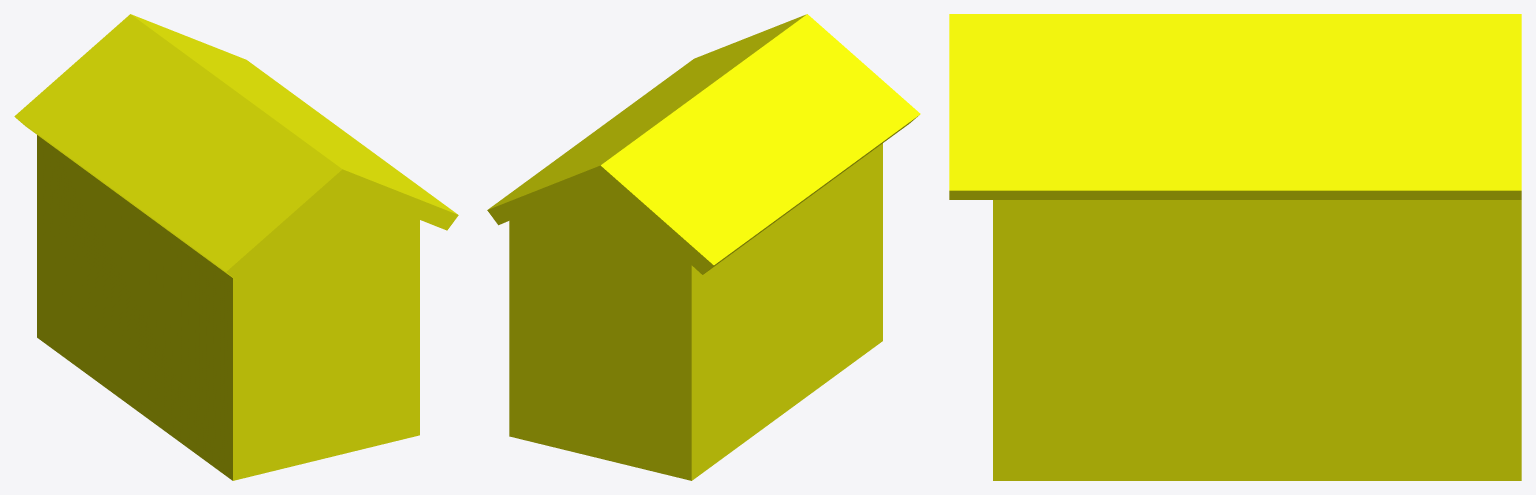
File: Roof_Window.FBX
3 views of the same model, side by side, from view 1: azimuth 30°, elevation 25°; view 2: azimuth 150°, elevation 25°; view 3: azimuth 270°, elevation 25° (orthographic). The views are drawn at different scales.
Visible parts, largest first — view 1: Box023; view 2: Box023; view 3: Box023.
Boxes of the visible parts, left/top/right/bottom form: Box023: left=14, top=14, right=458, bottom=480; Box023: left=487, top=14, right=920, bottom=480; Box023: left=949, top=14, right=1521, bottom=480.
Bounding box in the file's own units: 174 × 215 × 274.
